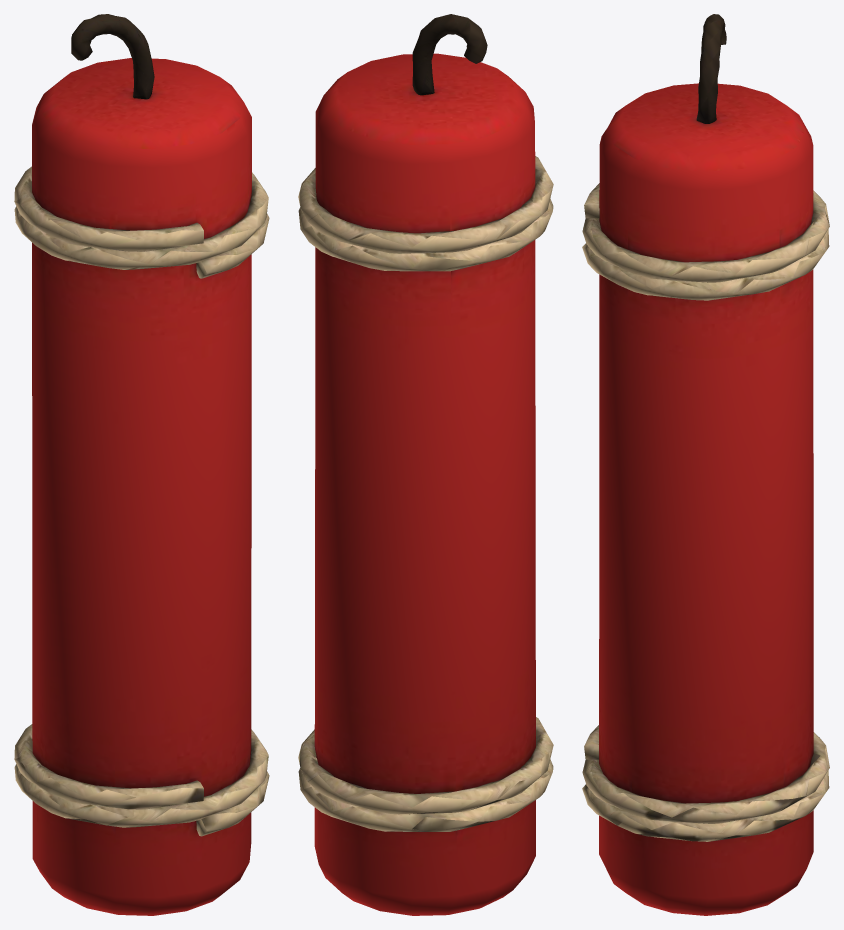
The picture shows the model from 3 angles, left to right: view 1: azimuth 30°, elevation 25°; view 2: azimuth 150°, elevation 25°; view 3: azimuth 270°, elevation 25°; orthographic projection. The views are drawn at different scales.
Visible parts, largest first — view 1: Waxed_paper_-_dynamite_red, Natural_sand_twine, Charred_brown_fuse; view 2: Waxed_paper_-_dynamite_red, Natural_sand_twine, Charred_brown_fuse; view 3: Waxed_paper_-_dynamite_red, Natural_sand_twine, Charred_brown_fuse.
Boxes of the visible parts, x1=… form: Waxed_paper_-_dynamite_red: x1=32, y1=58, x2=251, y2=915; Natural_sand_twine: x1=14, y1=166, x2=269, y2=836; Charred_brown_fuse: x1=71, y1=14, x2=154, y2=99; Waxed_paper_-_dynamite_red: x1=314, y1=53, x2=535, y2=915; Natural_sand_twine: x1=298, y1=156, x2=553, y2=831; Charred_brown_fuse: x1=412, y1=14, x2=487, y2=95; Waxed_paper_-_dynamite_red: x1=599, y1=83, x2=813, y2=915; Natural_sand_twine: x1=582, y1=183, x2=829, y2=841; Charred_brown_fuse: x1=696, y1=14, x2=726, y2=123.
Bounding box in the file's own units: 0.2362 × 0.8882 × 0.2366.
Materials: 3 (3 with a texture image).
